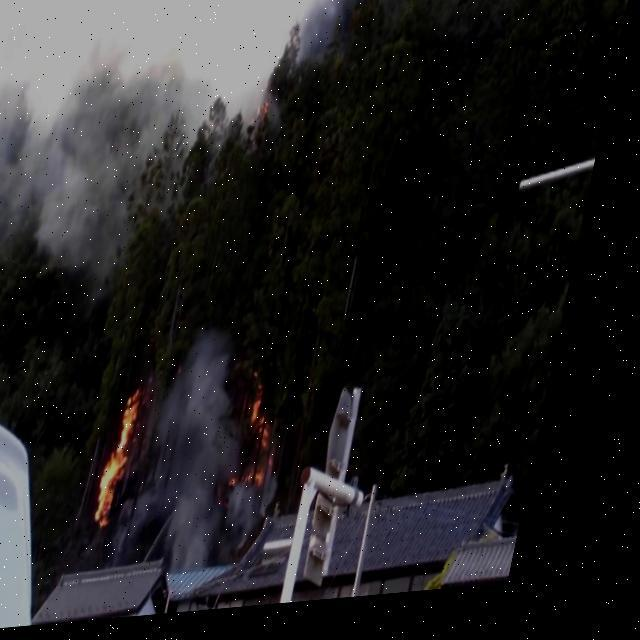Fire: (110, 394, 164, 536), (261, 382, 303, 455), (246, 476, 290, 494)
